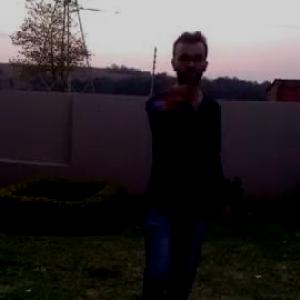takeoff-hand: (151, 69, 192, 109)
